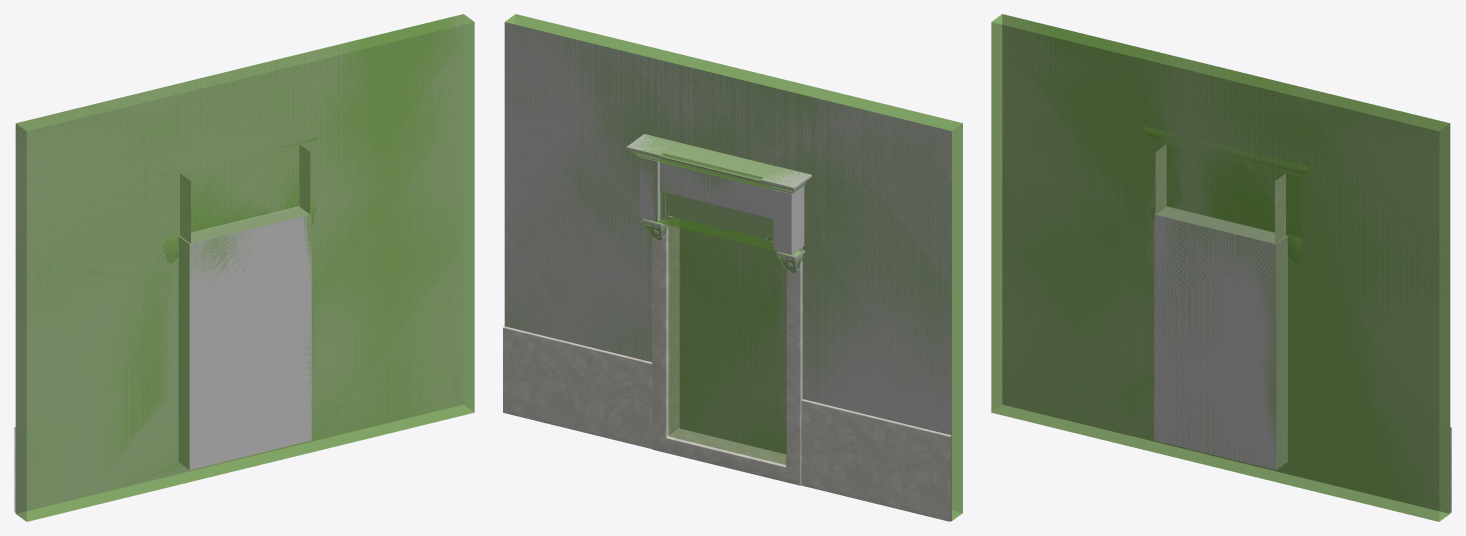
Rendered from F9_md_Wall_5x6_WL_01.fbx.
3 renders of one model, left to right at view 1: azimuth 30°, elevation 25°; view 2: azimuth 150°, elevation 25°; view 3: azimuth 330°, elevation 25°, orthographic.
Parts seen in each view (by area): view 1: F9_md_Wall_5x6_WL_01_LOD0, F9_md_Wall_5x6_WL_01_col_1, F9_md_Wall_5x6_WL_01_col_2; view 2: F9_md_Wall_5x6_WL_01_LOD0, F9_md_Wall_5x6_WL_01_col_1, F9_md_Wall_5x6_WL_01_col_2, F9_md_Wall_5x6_WL_01_col_3, F9_md_Wall_5x6_WL_01_col_4; view 3: F9_md_Wall_5x6_WL_01_LOD0, F9_md_Wall_5x6_WL_01_col_1, F9_md_Wall_5x6_WL_01_col_2, F9_md_Wall_5x6_WL_01_col_4, F9_md_Wall_5x6_WL_01_col_3.
Part boxes in pixels (<box>): F9_md_Wall_5x6_WL_01_LOD0: <box>14,14,463,513</box>; F9_md_Wall_5x6_WL_01_col_1: <box>15,14,474,521</box>; F9_md_Wall_5x6_WL_01_col_2: <box>184,169,298,231</box>; F9_md_Wall_5x6_WL_01_LOD0: <box>503,22,951,521</box>; F9_md_Wall_5x6_WL_01_col_1: <box>504,14,962,520</box>; F9_md_Wall_5x6_WL_01_col_2: <box>658,162,775,251</box>; F9_md_Wall_5x6_WL_01_col_3: <box>627,134,810,193</box>; F9_md_Wall_5x6_WL_01_col_4: <box>639,157,657,221</box>; F9_md_Wall_5x6_WL_01_LOD0: <box>1002,14,1451,513</box>; F9_md_Wall_5x6_WL_01_col_1: <box>991,14,1450,521</box>; F9_md_Wall_5x6_WL_01_col_2: <box>1167,144,1272,227</box>; F9_md_Wall_5x6_WL_01_col_4: <box>1284,173,1301,236</box>; F9_md_Wall_5x6_WL_01_col_3: <box>1142,126,1308,176</box>.
Size of what is drawn, in the model's own units: 600 by 500 by 67.23.
